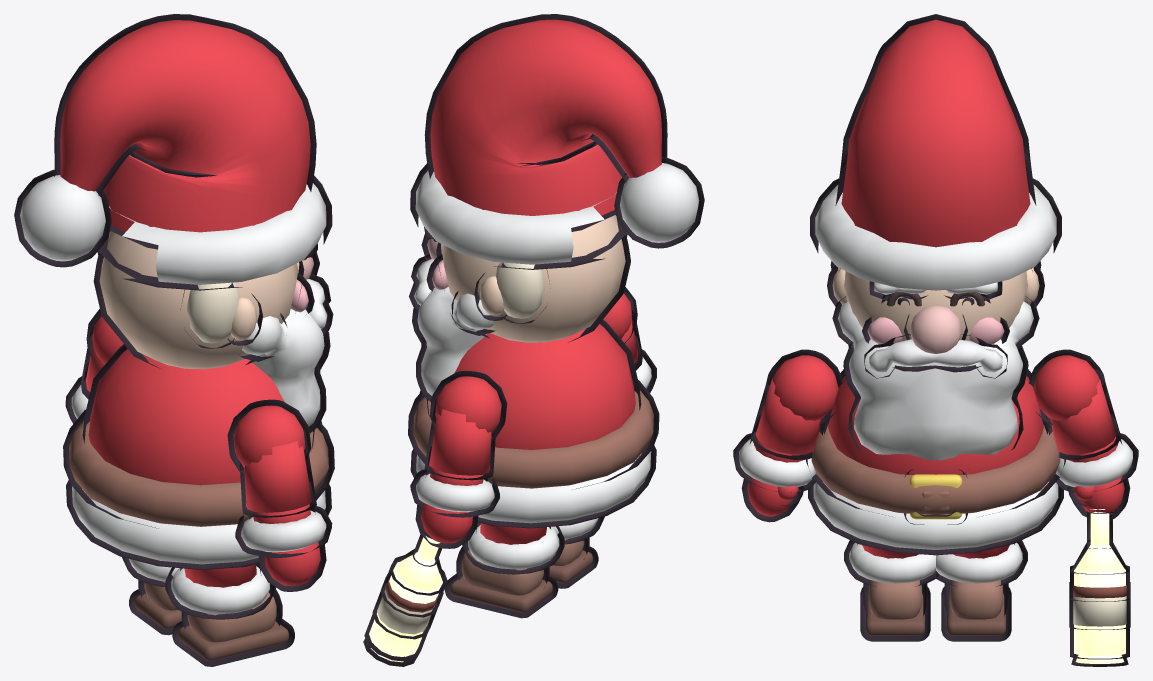
Rendered from santa.glb.
The picture shows the model from 3 angles, left to right: view 1: azimuth 30°, elevation 25°; view 2: azimuth 150°, elevation 25°; view 3: azimuth 270°, elevation 25°; orthographic projection. The views are drawn at different scales.
Visible parts, largest first — view 1: HeadMesh, HipsMesh, HeadOutline, ShinRMesh, ArmRMesh, ForearmRMesh, HipsOutline, ShinROutline, ShinLMesh, ArmROutline, ForearmROutline, ArmLMesh (+3 smaller); view 2: HeadMesh, HipsMesh, HeadOutline, ShinLMesh, ArmLMesh, BottleMesh, ForearmLMesh, HipsOutline, BottleOutline, ShinLOutline, ShinRMesh, ArmLOutline (+4 smaller); view 3: HeadMesh, HipsMesh, HeadOutline, BottleMesh, ArmLMesh, ArmRMesh, ShinLMesh, ShinRMesh, ForearmRMesh, ForearmLMesh, HipsOutline, BottleOutline (+6 smaller).
Part boxes in pixels (box(x1,y1,x2,y2)): HeadMesh: box(20, 20, 327, 426); HipsMesh: box(69, 349, 328, 564); HeadOutline: box(14, 14, 333, 433); ShinRMesh: box(171, 566, 288, 660); ArmRMesh: box(233, 405, 311, 512); ForearmRMesh: box(241, 504, 326, 585); HipsOutline: box(63, 344, 334, 569); ShinROutline: box(165, 567, 294, 666); ShinLMesh: box(129, 559, 181, 629); ArmROutline: box(227, 399, 316, 517); ForearmROutline: box(235, 482, 332, 591); ArmLMesh: box(86, 316, 123, 392); HeadMesh: box(414, 19, 699, 395); HipsMesh: box(413, 324, 653, 523); HeadOutline: box(409, 14, 704, 401); ShinLMesh: box(450, 525, 559, 612); ArmLMesh: box(429, 376, 501, 475); BottleMesh: box(369, 536, 442, 662); ForearmLMesh: box(416, 467, 494, 543); HipsOutline: box(408, 319, 659, 528); BottleOutline: box(363, 521, 447, 666); ShinLOutline: box(444, 526, 564, 618); ShinRMesh: box(549, 518, 598, 583); ArmLOutline: box(424, 370, 507, 480); HeadMesh: box(815, 19, 1056, 460); HipsMesh: box(811, 375, 1060, 549); HeadOutline: box(810, 14, 1061, 450); BottleMesh: box(1073, 509, 1126, 663); ArmLMesh: box(1033, 355, 1116, 454); ArmRMesh: box(755, 355, 838, 454); ShinLMesh: box(936, 542, 1022, 635); ShinRMesh: box(849, 542, 935, 635); ForearmRMesh: box(739, 436, 816, 516); ForearmLMesh: box(1055, 436, 1132, 514); HipsOutline: box(806, 369, 1065, 555); BottleOutline: box(1069, 508, 1130, 666).
Bounding box in the file's own units: 1.02 × 2.14 × 1.3.
